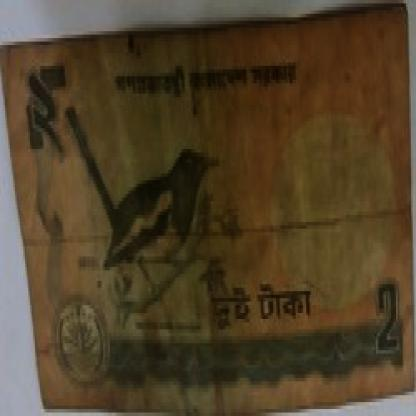two taka: (22, 62, 80, 146), (366, 281, 404, 371)
